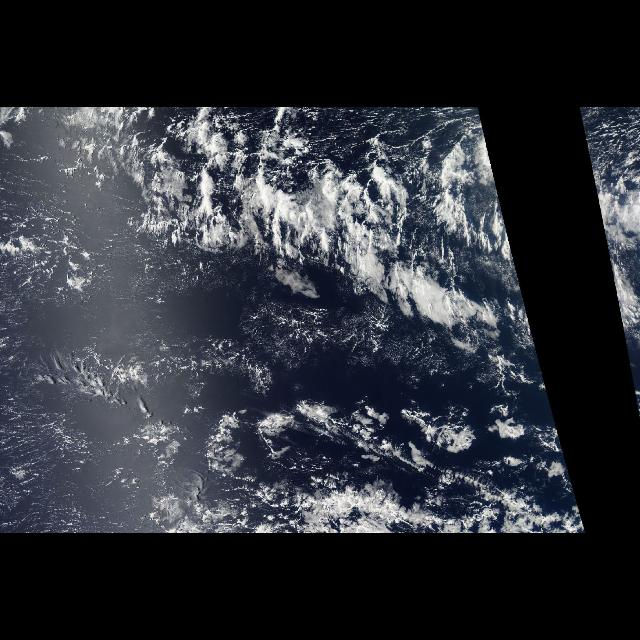Fish: (158, 107, 546, 385)
Sugar: (0, 173, 478, 533)
